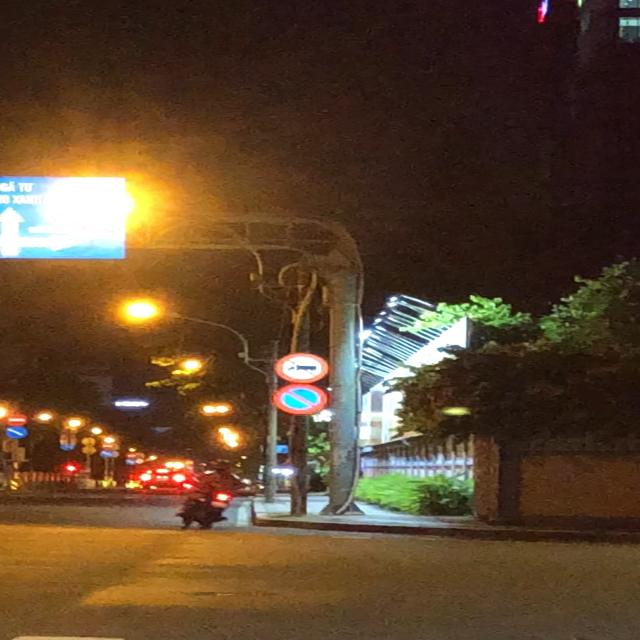Bien bao cam do xe: (270, 381, 332, 416)
Bien bao cam xe so-mi ro-mooc: (270, 348, 338, 382)
